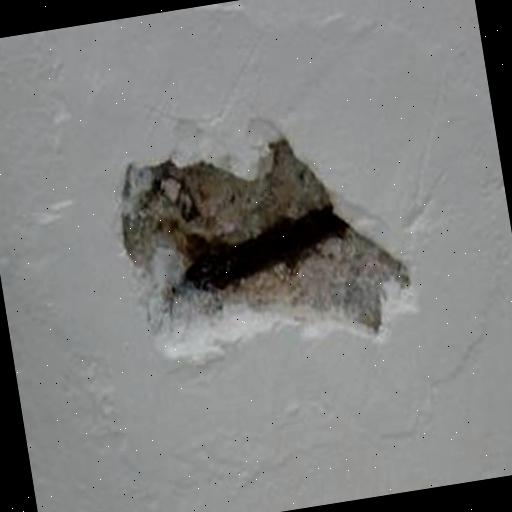spalling: (104, 114, 418, 380)
